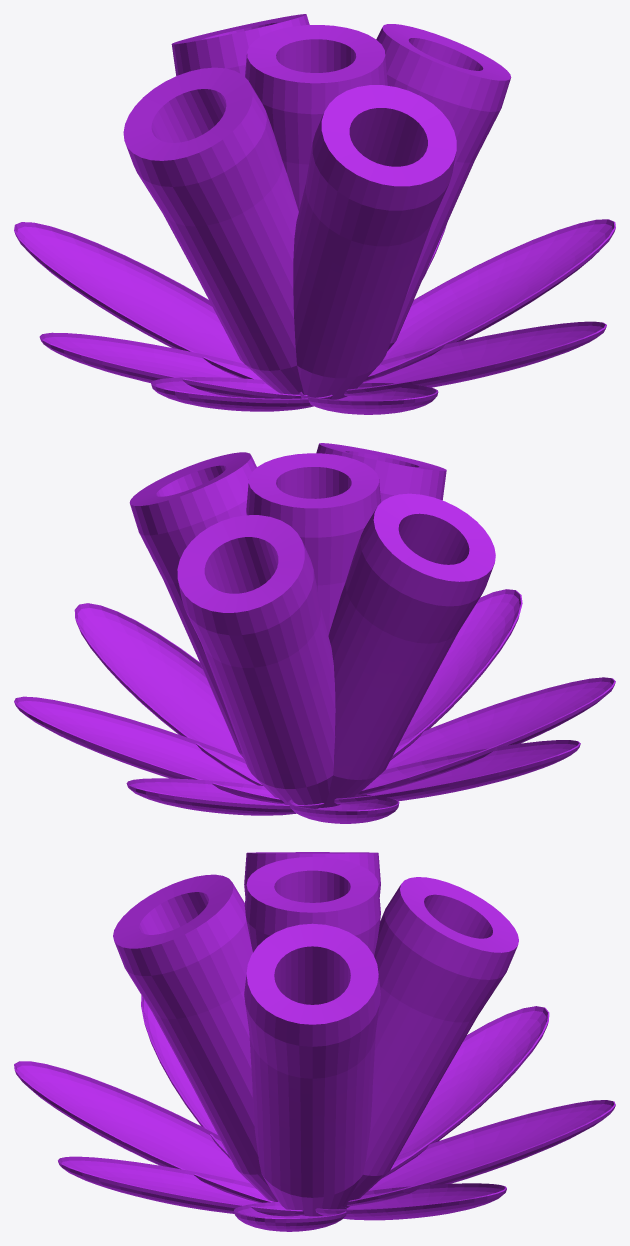
The picture shows the model from 3 angles, top to bottom: view 1: azimuth 30°, elevation 25°; view 2: azimuth 150°, elevation 25°; view 3: azimuth 270°, elevation 25°; orthographic projection. The views are drawn at different scales.
Parts seen in each view (by area): view 1: Sphere.001; view 2: Sphere.001; view 3: Sphere.001.
Boxes of the visible parts, <box> form: Sphere.001: <box>14,14,615,414</box>; Sphere.001: <box>14,443,615,823</box>; Sphere.001: <box>14,852,615,1231</box>.
Size of the model in its own units: 1.18 by 0.6941 by 1.17.
